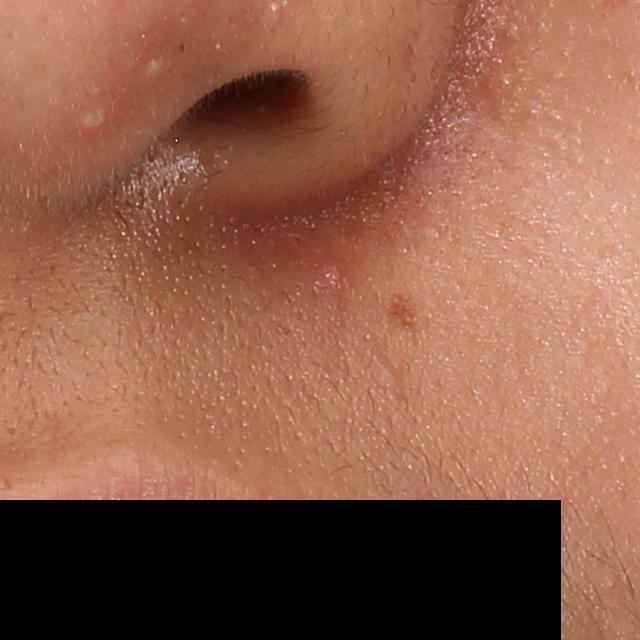nevus: (386, 287, 420, 329)
papule: (318, 256, 345, 284)
pustule: (80, 100, 113, 135), (135, 51, 165, 83)
